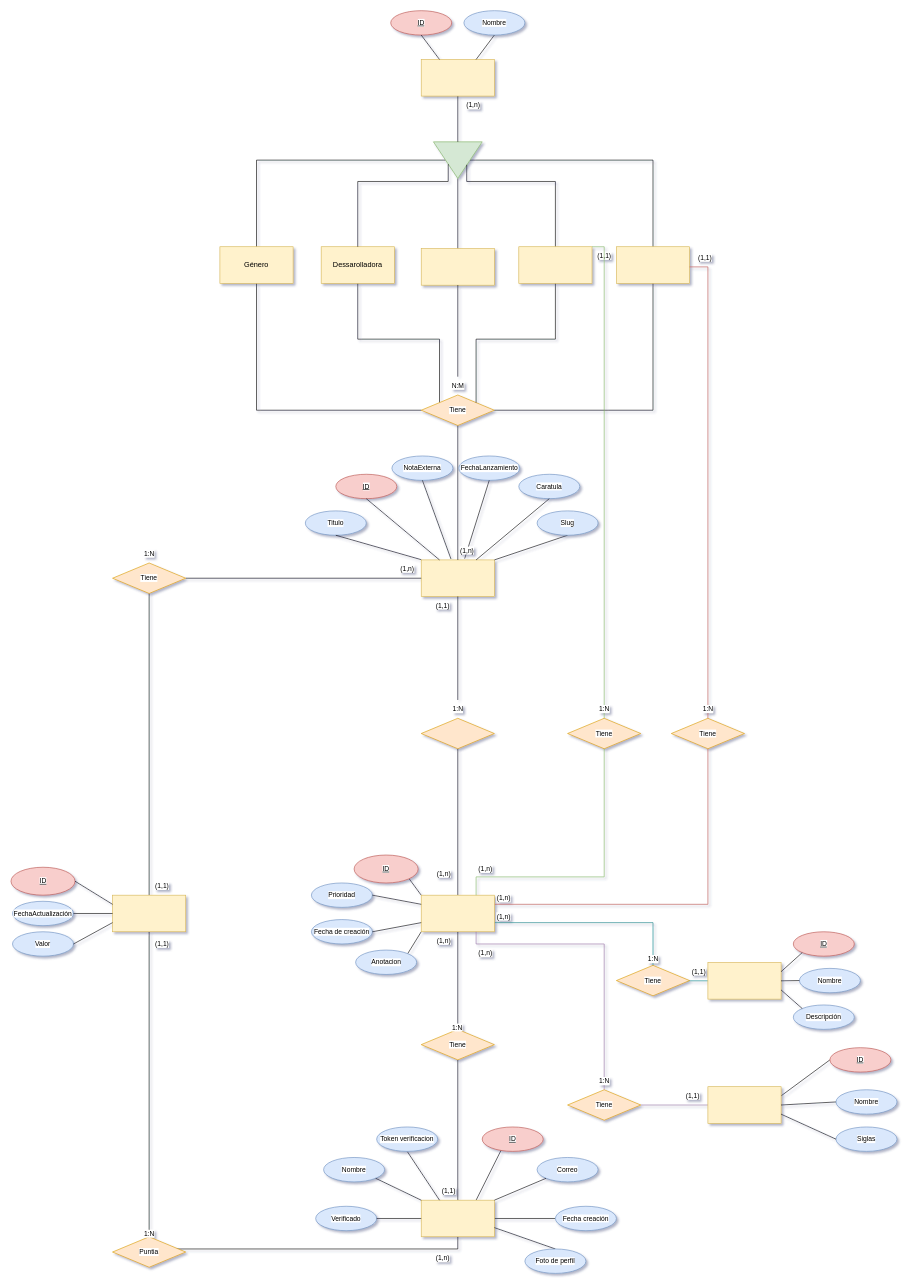
This 911x1288 diagram has some shape labels left out. Each missing label, with the box of its shape:
Clasificación: (421, 59, 494, 96)
Edición: (707, 962, 781, 999)
Formato: (518, 246, 592, 283)
Juego: (421, 559, 494, 597)
Lista de Deseados: (421, 895, 494, 932)
NotaJuego: (112, 895, 186, 932)
Pertenece: (421, 718, 494, 749)
Plataforma: (616, 246, 690, 283)
Publisher: (421, 248, 494, 285)
Región: (707, 1086, 781, 1123)
Usuario: (421, 1200, 494, 1237)
